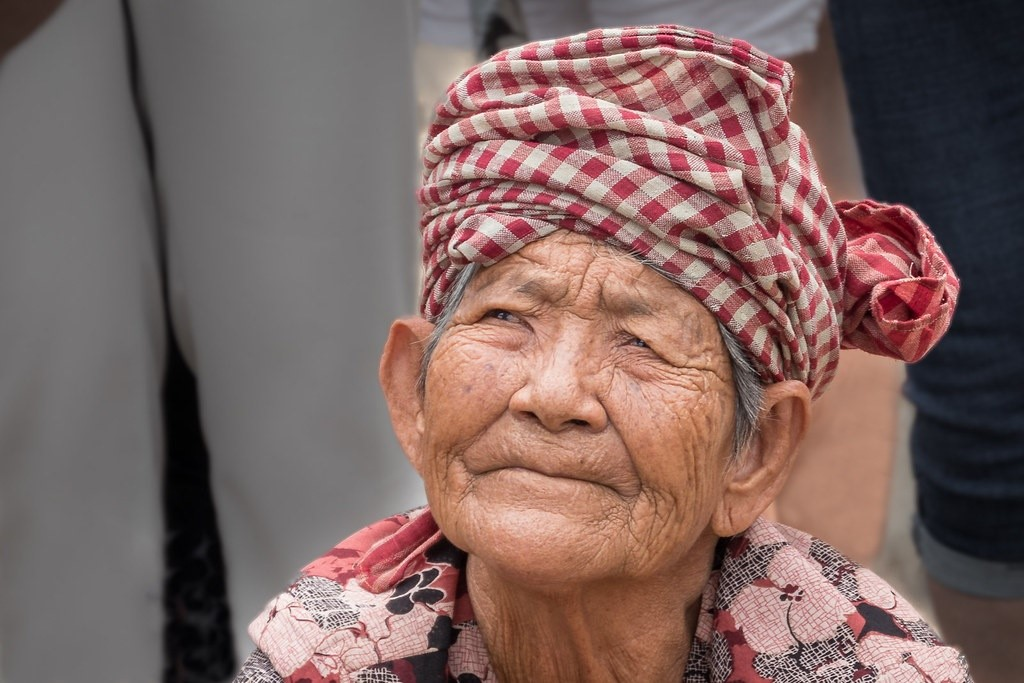face_no_mask: (404, 137, 776, 588)
